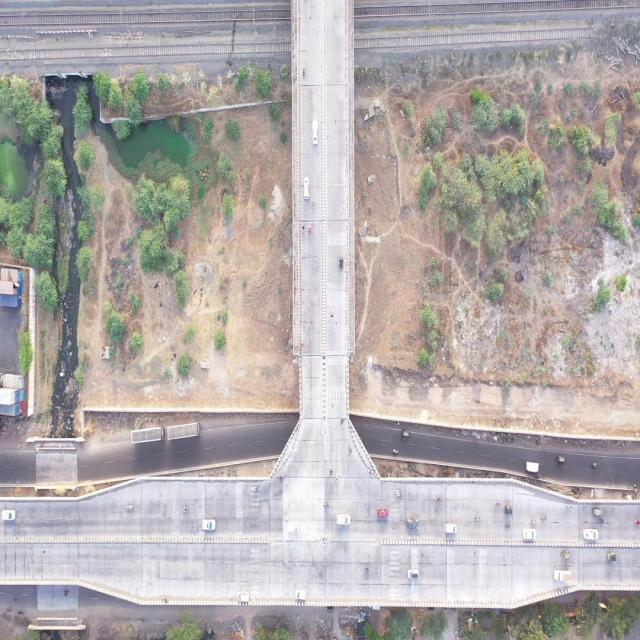3W: (337, 247, 345, 278), (558, 546, 571, 560), (555, 450, 567, 464), (605, 550, 618, 562), (402, 426, 411, 440), (504, 506, 513, 516)
Cars: (0, 501, 18, 531), (336, 503, 354, 532), (201, 515, 222, 535), (286, 516, 302, 542), (580, 524, 600, 542), (293, 584, 309, 604), (233, 586, 248, 606), (402, 514, 420, 530), (310, 120, 320, 146), (302, 174, 311, 202), (376, 503, 389, 522), (407, 564, 419, 583), (444, 520, 459, 535), (522, 528, 538, 542), (593, 508, 602, 518)
LCV: (553, 562, 572, 584), (524, 458, 540, 474)
M2W: (120, 500, 138, 519), (248, 481, 265, 499), (183, 498, 192, 517), (434, 490, 443, 508), (391, 442, 400, 460), (591, 455, 600, 472), (345, 440, 355, 455), (329, 304, 335, 323), (278, 472, 287, 484), (336, 466, 342, 484), (361, 561, 370, 573), (632, 517, 640, 528), (475, 512, 482, 524), (540, 511, 548, 521), (323, 499, 329, 512), (308, 223, 314, 236), (531, 512, 536, 525), (300, 223, 306, 233), (394, 492, 404, 498), (302, 67, 306, 79)
MAV: (128, 421, 166, 448), (170, 419, 204, 443)
